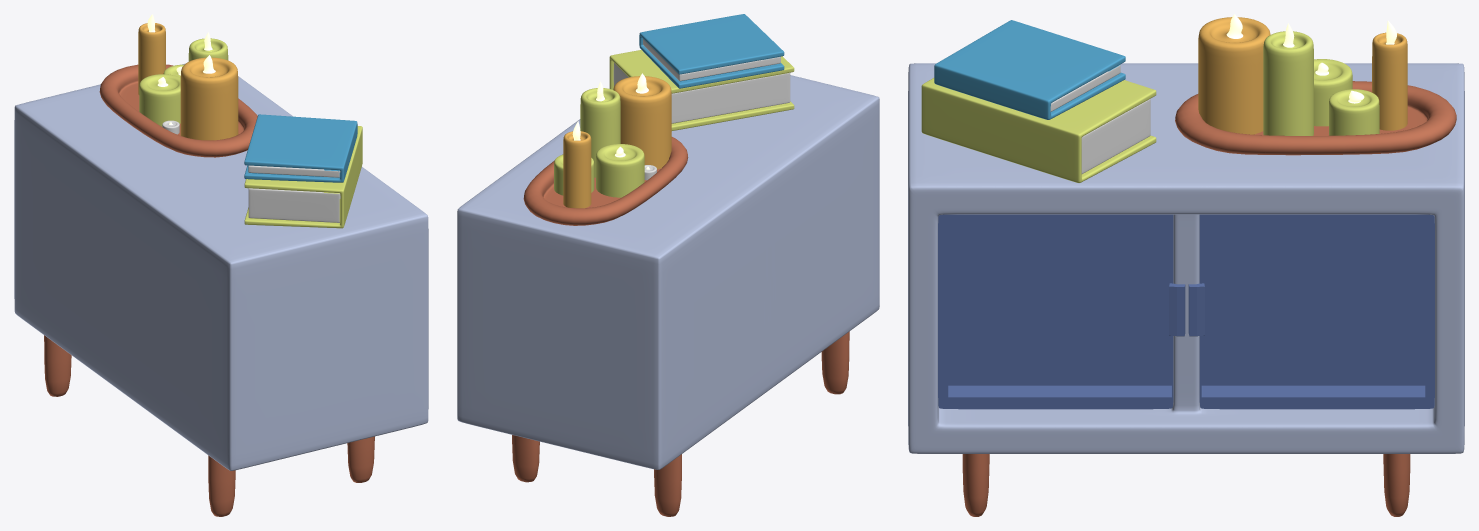
File: Cupboard02 1.fbx
3 renders of one model, left to right at view 1: azimuth 30°, elevation 25°; view 2: azimuth 150°, elevation 25°; view 3: azimuth 270°, elevation 25°, orthographic. The views are drawn at different scales.
Parts seen in each view (by area): view 1: Wall.001, Plane.159, Plane.158, Circle.008, Candles, ConsoleLegs, Circle.006, Circle.004, Circle.007; view 2: Wall.001, Plane.159, Plane.158, Candles, Circle.008, ConsoleLegs, Circle.006, Circle.007, Circle.004, Circle.005; view 3: Wall.002, Wall.001, Plane.158, Plane.159, Candles, Circle.008, Circle.007, Circle.004, ConsoleLegs, Circle.005, Circle.006.
Boxes of the visible parts, x1,y1,x2,y2 form: Wall.001: (14, 64, 428, 470); Plane.159: (244, 114, 357, 182); Plane.158: (244, 126, 362, 228); Circle.008: (180, 55, 238, 140); Candles: (99, 64, 257, 157); ConsoleLegs: (44, 335, 374, 516); Circle.006: (139, 74, 180, 126); Circle.004: (138, 14, 165, 94); Circle.007: (188, 32, 228, 61); Wall.001: (457, 75, 879, 469); Plane.159: (639, 14, 784, 88); Plane.158: (609, 50, 794, 130); Candles: (523, 137, 688, 225); Circle.008: (613, 73, 671, 169); ConsoleLegs: (512, 331, 849, 516); Circle.006: (596, 144, 644, 197); Circle.007: (580, 81, 620, 177); Circle.004: (563, 121, 591, 208); Circle.005: (554, 154, 594, 195); Wall.002: (938, 214, 1434, 409); Wall.001: (908, 63, 1464, 453); Plane.158: (921, 78, 1156, 182); Plane.159: (934, 20, 1125, 119); Candles: (1175, 81, 1456, 155); Circle.008: (1198, 14, 1270, 134); Circle.007: (1263, 23, 1313, 135); Circle.004: (1372, 20, 1407, 130); ConsoleLegs: (962, 454, 1410, 516); Circle.005: (1329, 89, 1379, 135); Circle.006: (1314, 59, 1352, 126).
Size of the model in its own units: 300 by 530 by 565.
